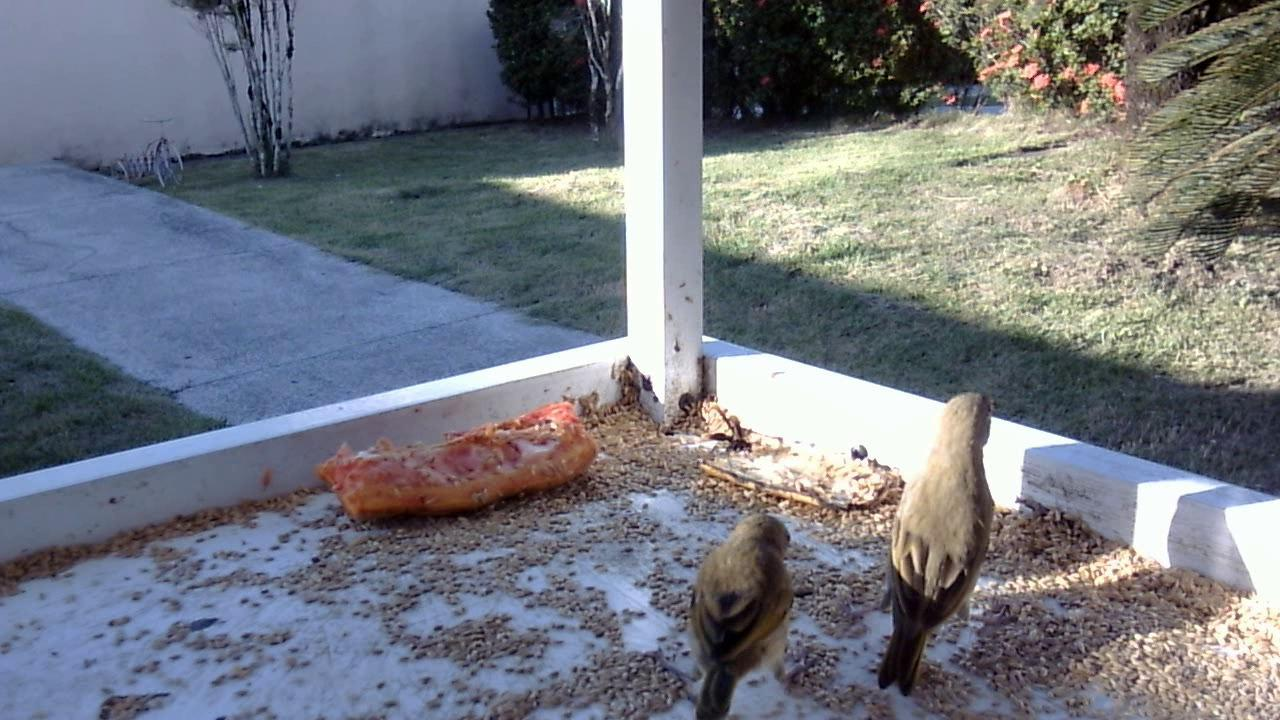canario_do_amazonas: (870, 378, 1004, 708), (671, 508, 816, 720)
